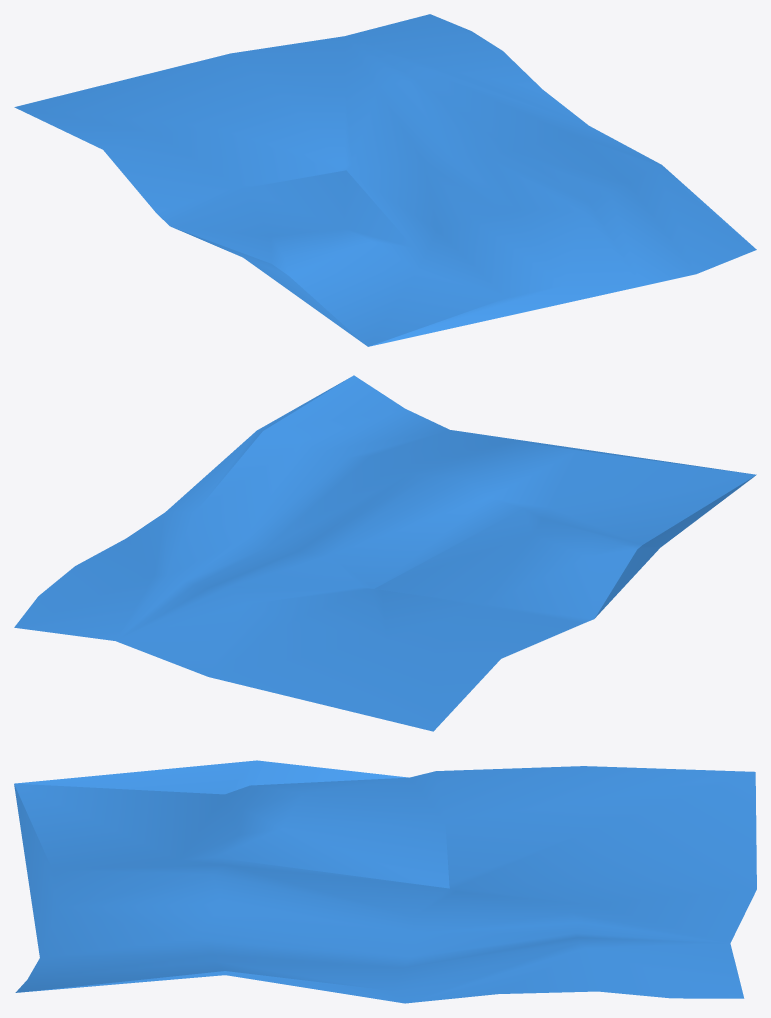
Rendered from Water_Chunk_01.fbx.
3 views of the same model, one above another, from view 1: azimuth 30°, elevation 25°; view 2: azimuth 150°, elevation 25°; view 3: azimuth 270°, elevation 25° (orthographic). The views are drawn at different scales.
Visible parts, largest first — view 1: Model; view 2: Model; view 3: Model.
Part boxes in pixels (box(x1,y1,x2,y2)): Model: box(14, 14, 756, 346); Model: box(14, 375, 756, 731); Model: box(14, 760, 756, 1003).
Bounding box in the file's own units: 4023 × 328 × 5522.
